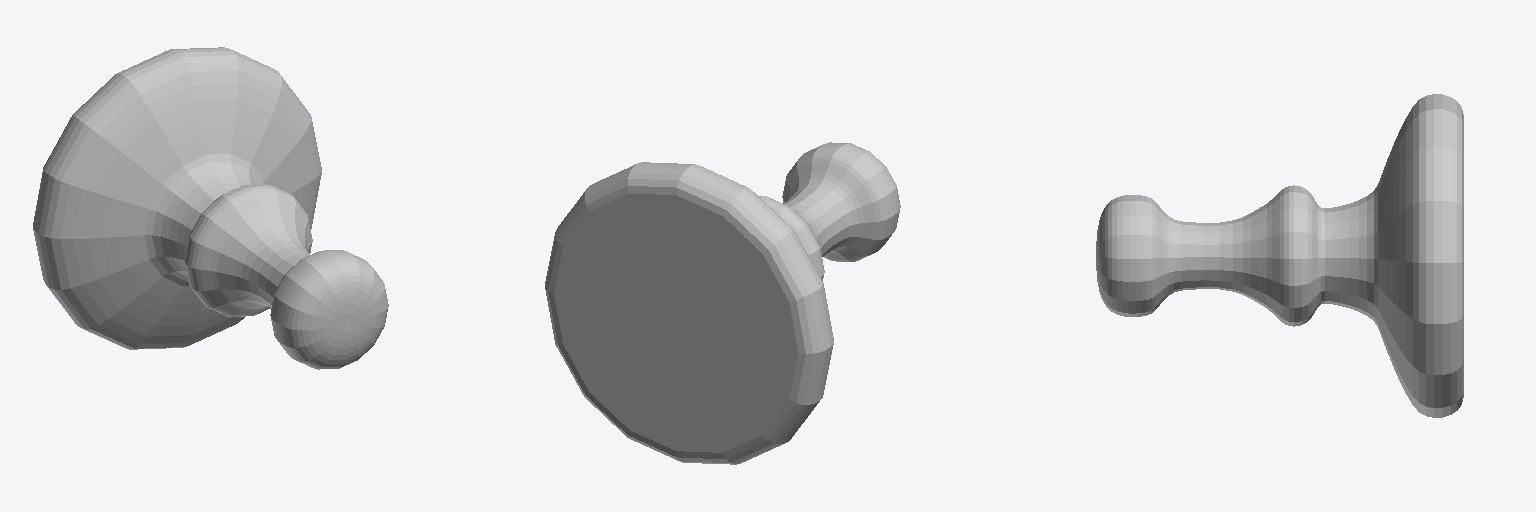
Rendered from pawn.obj.
3 renders of one model, left to right at view 1: azimuth 30°, elevation 25°; view 2: azimuth 150°, elevation 25°; view 3: azimuth 270°, elevation 25°, orthographic.
Parts seen in each view (by area): view 1: Mesh_Mesh.001_black_pec1; view 2: Mesh_Mesh.001_black_pec1; view 3: Mesh_Mesh.001_black_pec1.
Part boxes in pixels (bbox=[...]): Mesh_Mesh.001_black_pec1: bbox=[33, 47, 388, 369]; Mesh_Mesh.001_black_pec1: bbox=[545, 142, 900, 464]; Mesh_Mesh.001_black_pec1: bbox=[1096, 94, 1463, 417].
Bounding box in the file's own units: 39.56 × 39.56 × 44.85.